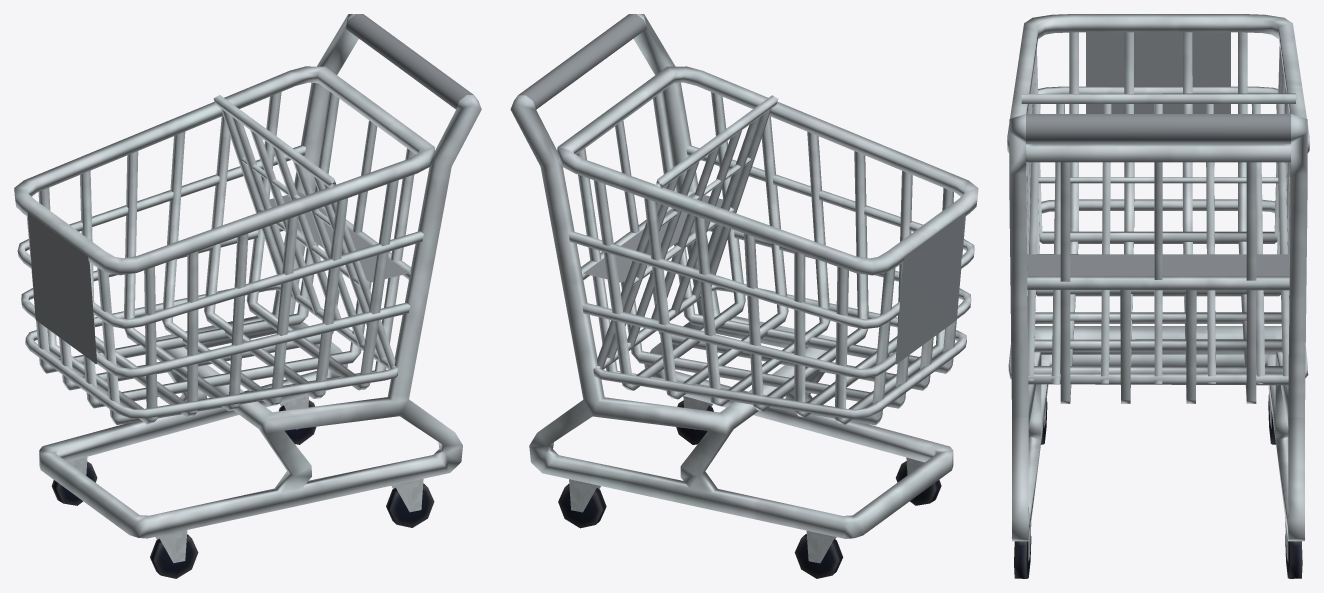
File: shopping-cart.glb
3 renders of one model, left to right at view 1: azimuth 30°, elevation 25°; view 2: azimuth 150°, elevation 25°; view 3: azimuth 270°, elevation 25°, orthographic. The views are drawn at different scales.
Visible parts, largest first — view 1: FtrShoppingCart_node1, FtrShoppingCart_node2; view 2: FtrShoppingCart_node1, FtrShoppingCart_node2; view 3: FtrShoppingCart_node1, FtrShoppingCart_node2.
Boxes of the visible parts, box(x1,y1,x2,y2) form: FtrShoppingCart_node1: box(14, 14, 481, 578); FtrShoppingCart_node2: box(27, 14, 473, 363); FtrShoppingCart_node1: box(510, 14, 978, 578); FtrShoppingCart_node2: box(518, 14, 964, 364); FtrShoppingCart_node1: box(1007, 14, 1309, 578); FtrShoppingCart_node2: box(1026, 32, 1290, 276).
Bounding box in the file's own units: 9.5 × 10.34 × 5.7.
Materials: 2 (1 with a texture image).
